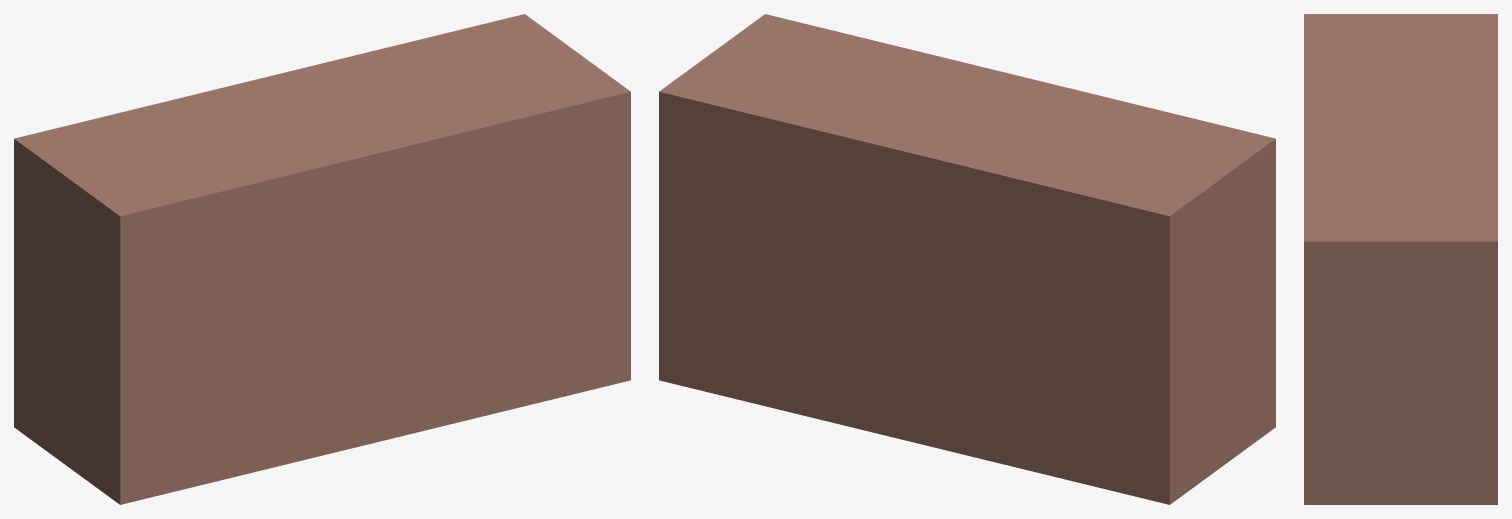
The model's file is prop_sangyeo_lod2.glb.
3 renders of one model, left to right at view 1: azimuth 30°, elevation 25°; view 2: azimuth 150°, elevation 25°; view 3: azimuth 270°, elevation 25°, orthographic. The views are drawn at different scales.
Parts seen in each view (by area): view 1: prop_sangyeo_lod2; view 2: prop_sangyeo_lod2; view 3: prop_sangyeo_lod2.
Boxes of the visible parts, <box> form: prop_sangyeo_lod2: <box>14,14,630,504</box>; prop_sangyeo_lod2: <box>659,14,1275,504</box>; prop_sangyeo_lod2: <box>1304,14,1497,504</box>.
Size of the model in its own units: 5 by 2.7 by 1.8.
